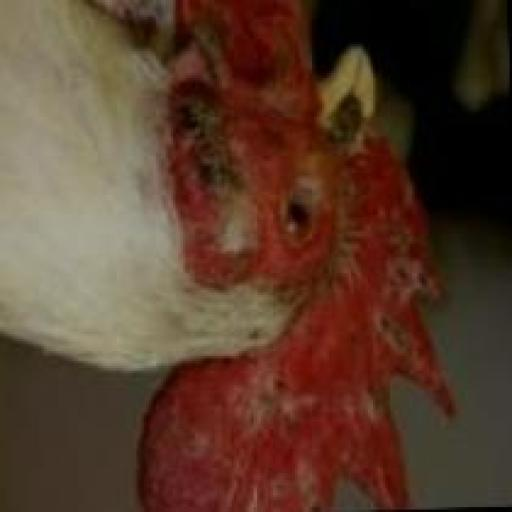disease: (172, 364, 388, 508), (331, 150, 439, 356)
